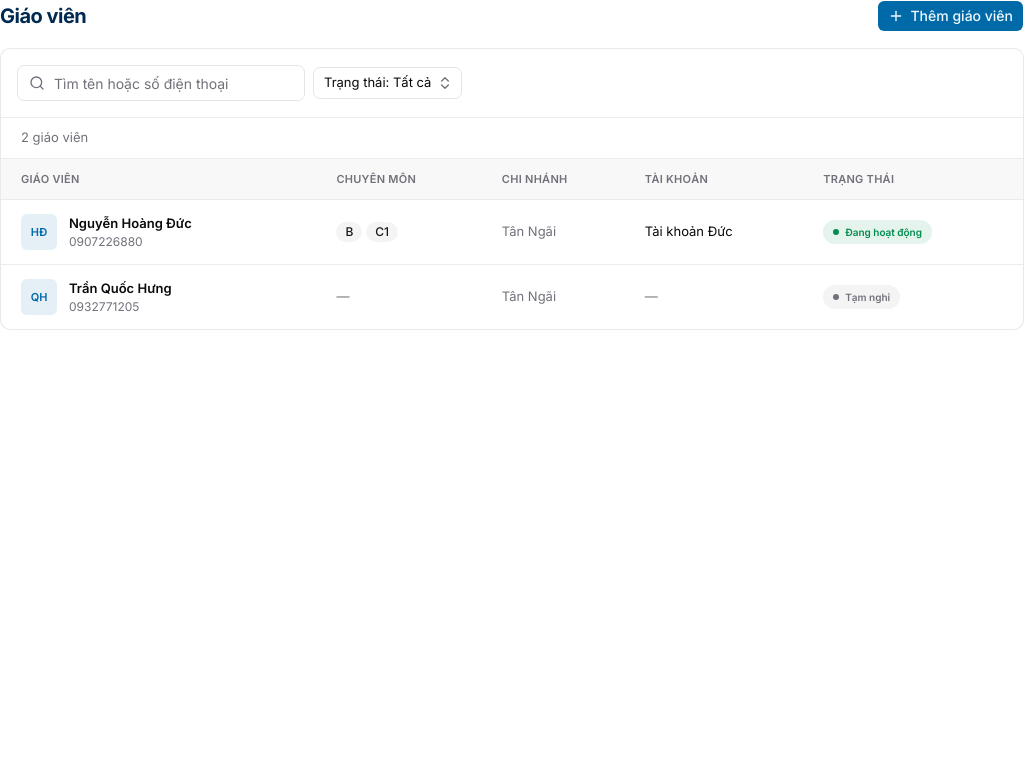
Scenario: InstructorList › tài khoản liên kết theo chi nhánh, chọn Không liên kết → userId null
Click the text "Nguyễn Hoàng Đức" at (130, 224), box [69,214,192,234]
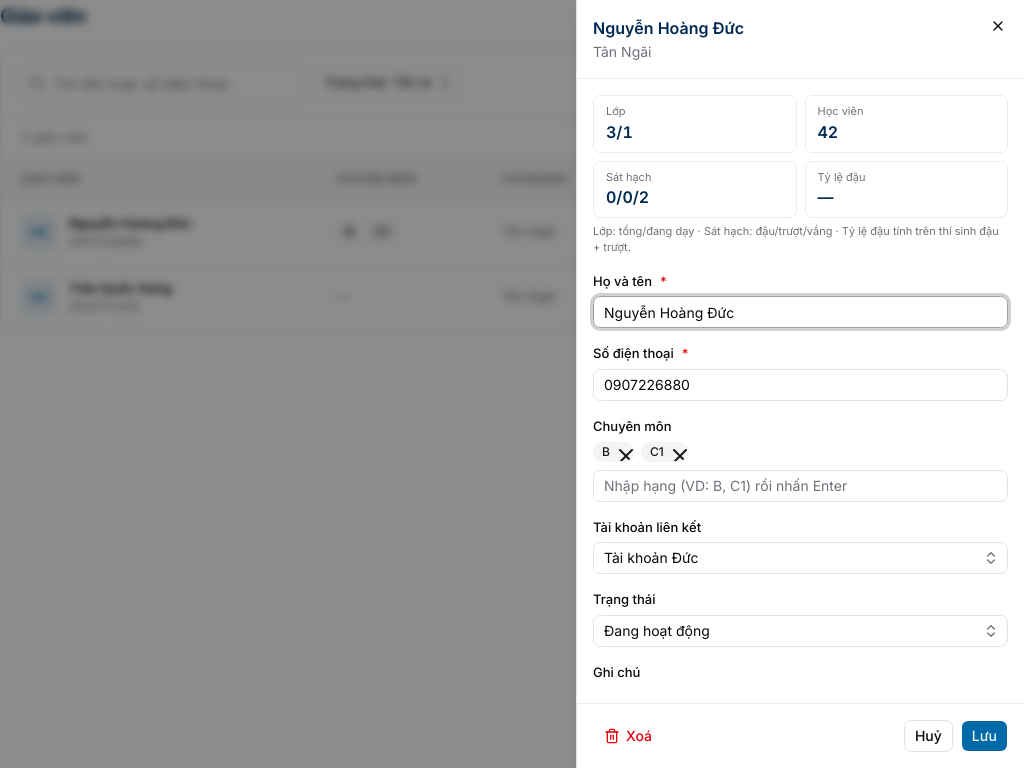
Result: the dropdown named "Tài khoản liên kết" shows "Tài khoản Đức"
Click the dropdown named "Tài khoản liên kết" at (651, 558), box [593,542,1008,574]
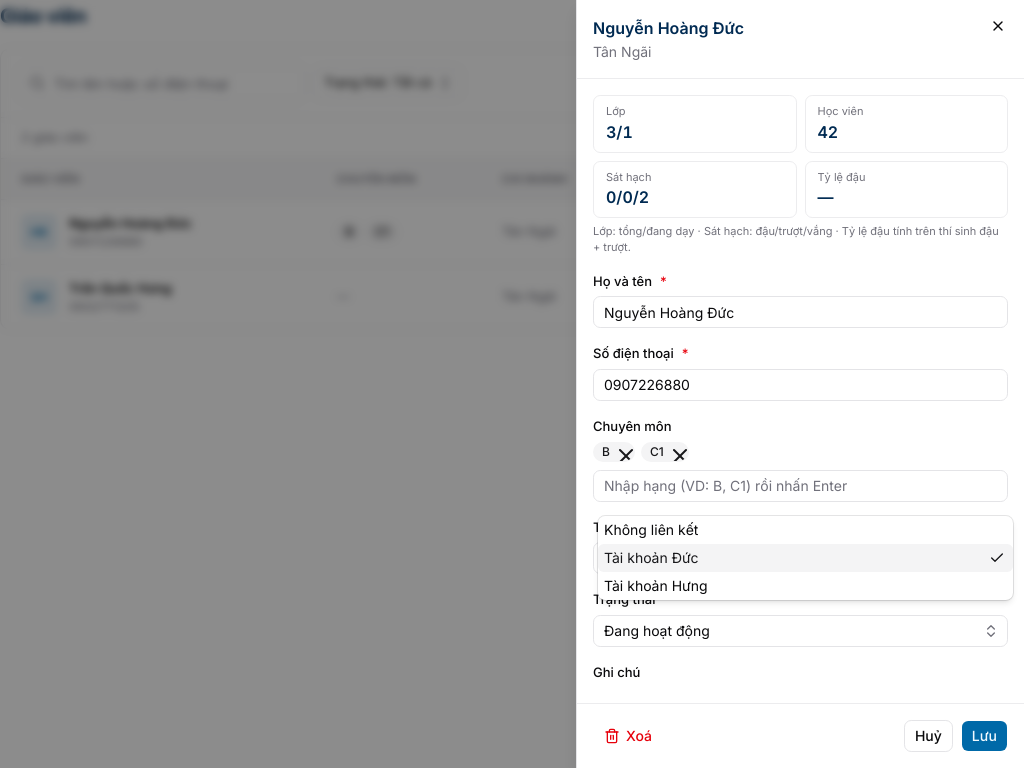
Click the option "Không liên kết" at (651, 530), box [604,521,698,538]
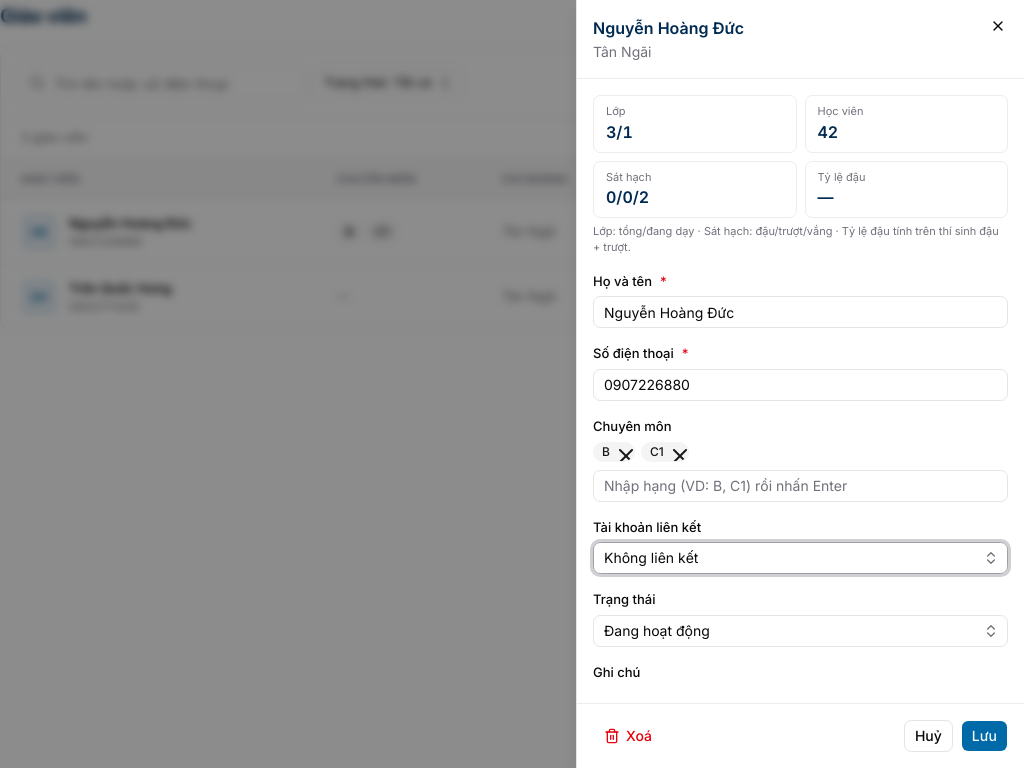
Click the button "Lưu" at (984, 736), box [961,720,1008,752]
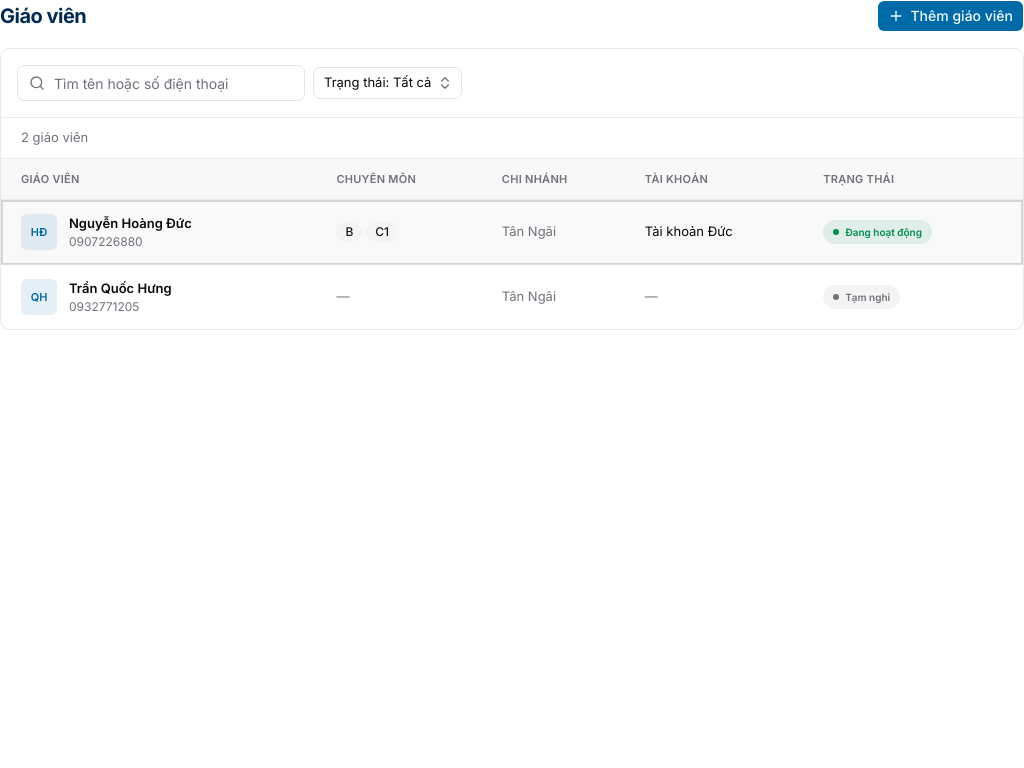
Result: the dialog is gone
